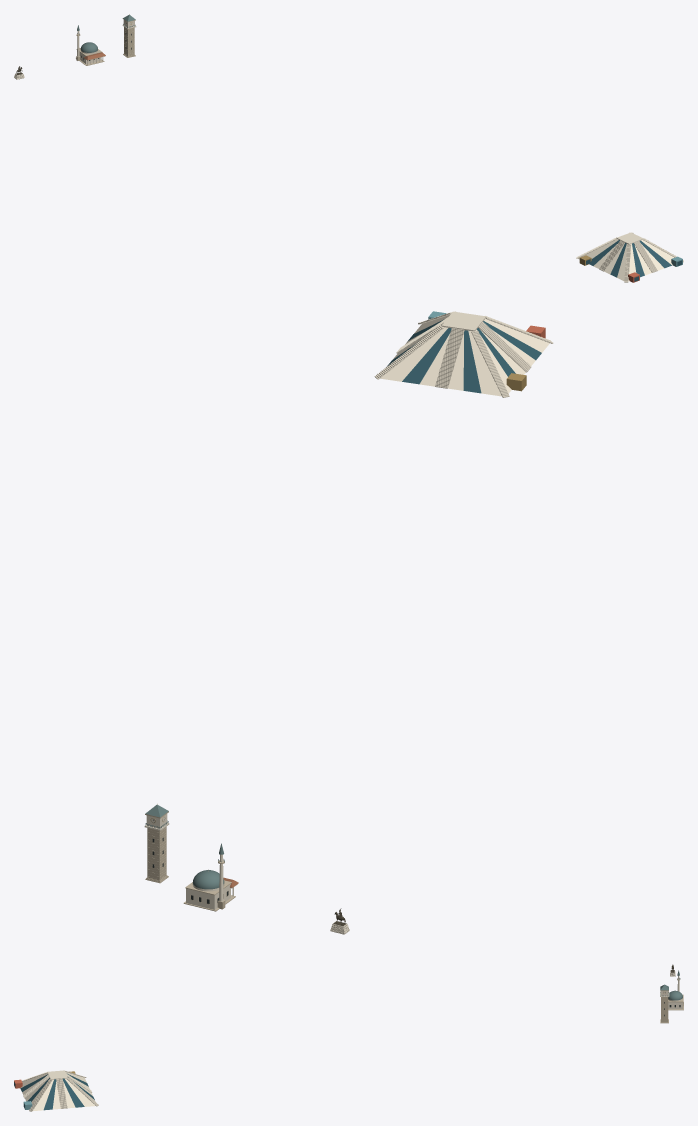
File: public-tirana-landmarks.glb
3 views of the same model, one above another, from view 1: azimuth 30°, elevation 25°; view 2: azimuth 150°, elevation 25°; view 3: azimuth 270°, elevation 25° (orthographic). The views are drawn at different scales.
Parts seen in each view (by area): view 1: pyramid, mosque, clock; view 2: pyramid, mosque, clock; view 3: pyramid, mosque, clock.
Part boxes in pixels (box(x1,y1,x2,y2)): pyramid: box(576, 232, 683, 282); mosque: box(76, 25, 105, 65); clock: box(122, 14, 136, 57); pyramid: box(374, 311, 553, 397); mosque: box(183, 843, 238, 911); clock: box(144, 804, 169, 883); pyramid: box(14, 1070, 98, 1111); mosque: box(668, 970, 683, 1010); clock: box(660, 984, 669, 1023).
Bounding box in the file's own units: 281 × 35.2 × 571.
